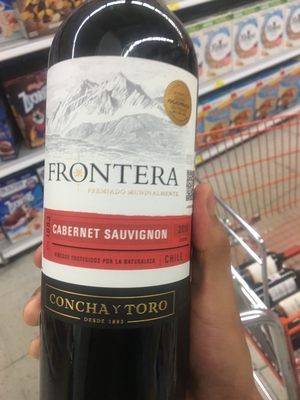frontera cabernet sauvignon: (35, 1, 202, 400)
